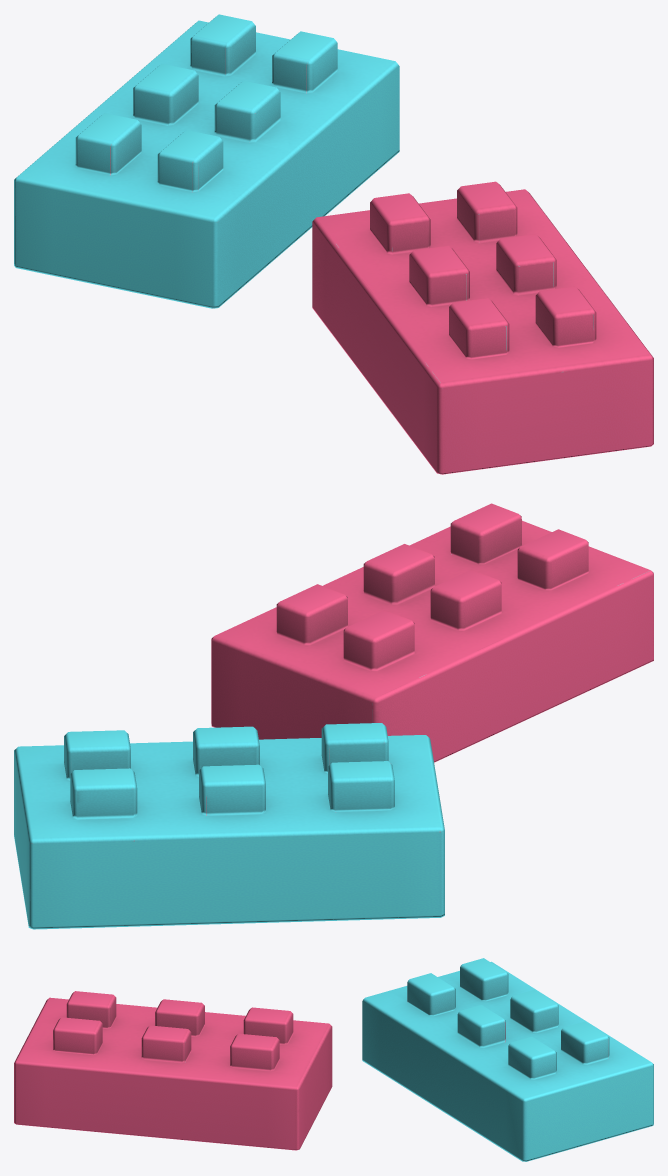
The model's file is rego.fbx.
3 views of the same model, one above another, from view 1: azimuth 30°, elevation 25°; view 2: azimuth 150°, elevation 25°; view 3: azimuth 270°, elevation 25° (orthographic). The views are drawn at different scales.
Visible parts, largest first — view 1: rego2, rego3; view 2: rego2, rego3; view 3: rego3, rego2.
Boxes of the visible parts, x1,y1,x2,y2 form: rego2: (14,14,399,308); rego3: (312,181,653,474); rego2: (14,723,444,929); rego3: (211,503,653,762); rego3: (14,991,332,1150); rego2: (362,958,653,1161).
Size of the model in its own units: 3.64 by 1.05 by 7.11.
